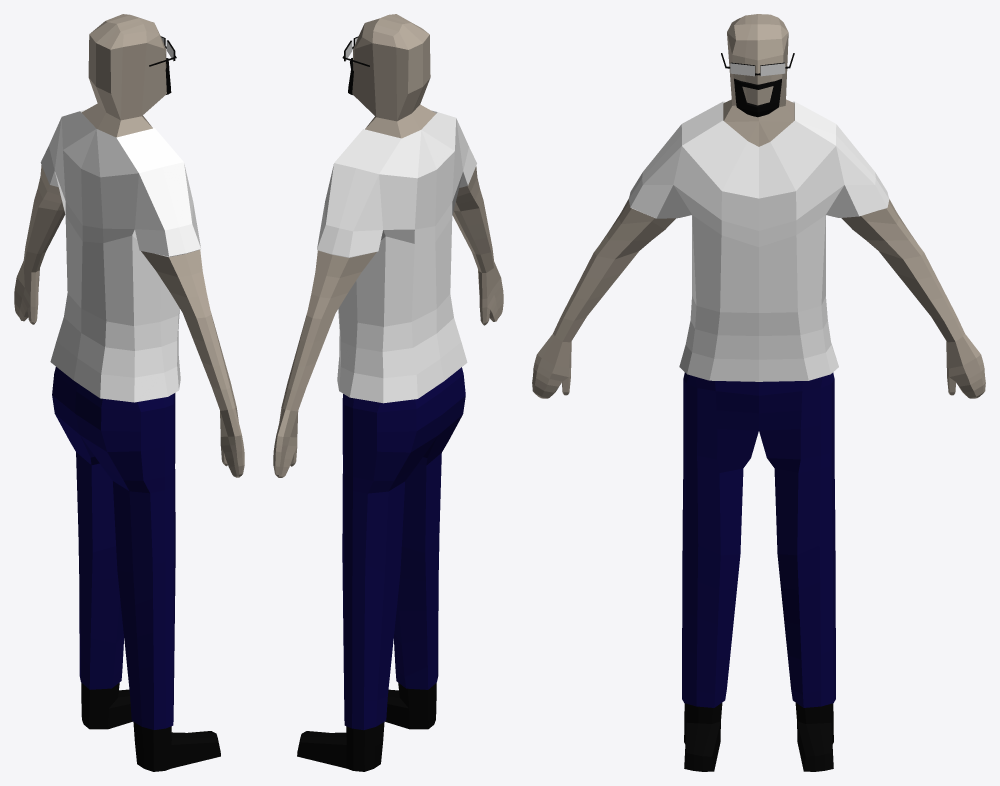
Rendered from character5.fbx.
The picture shows the model from 3 angles, left to right: view 1: azimuth 30°, elevation 25°; view 2: azimuth 150°, elevation 25°; view 3: azimuth 270°, elevation 25°; orthographic projection.
Parts seen in each view (by area): view 1: Character5Shirt, Character5Jeans, Character5, Character5Shoe; view 2: Character5Shirt, Character5Jeans, Character5, Character5Shoe; view 3: Character5Shirt, Character5Jeans, Character5, Character5Shoe.
Boxes of the visible parts, left/top/right/bottom form: Character5Shirt: left=40, top=109, right=200, bottom=402; Character5Jeans: left=52, top=367, right=175, bottom=729; Character5: left=14, top=14, right=244, bottom=477; Character5Shoe: left=81, top=683, right=220, bottom=771; Character5Shirt: left=317, top=110, right=476, bottom=403; Character5Jeans: left=342, top=367, right=465, bottom=730; Character5: left=273, top=14, right=503, bottom=477; Character5Shoe: left=297, top=682, right=436, bottom=771; Character5Shirt: left=628, top=101, right=889, bottom=381; Character5Jeans: left=682, top=372, right=835, bottom=707; Character5: left=532, top=14, right=985, bottom=398; Character5Shoe: left=684, top=703, right=833, bottom=771.
Size of the model in its own units: 110 by 652 by 370.
